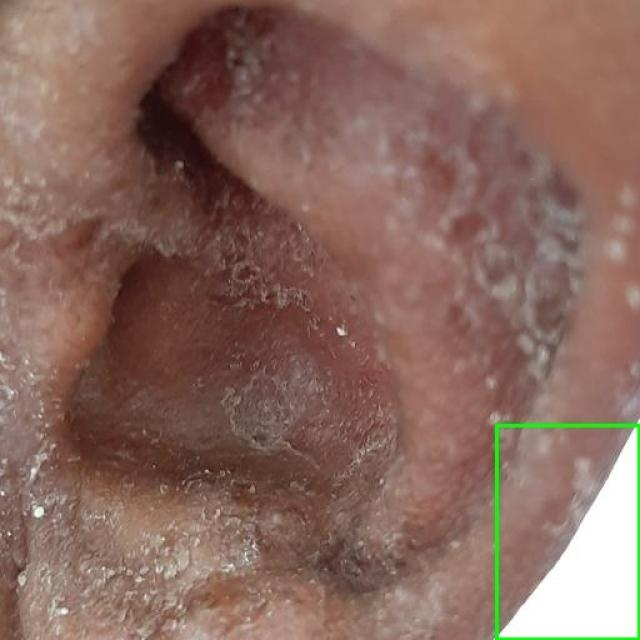Eczema: (496, 425, 639, 639)
